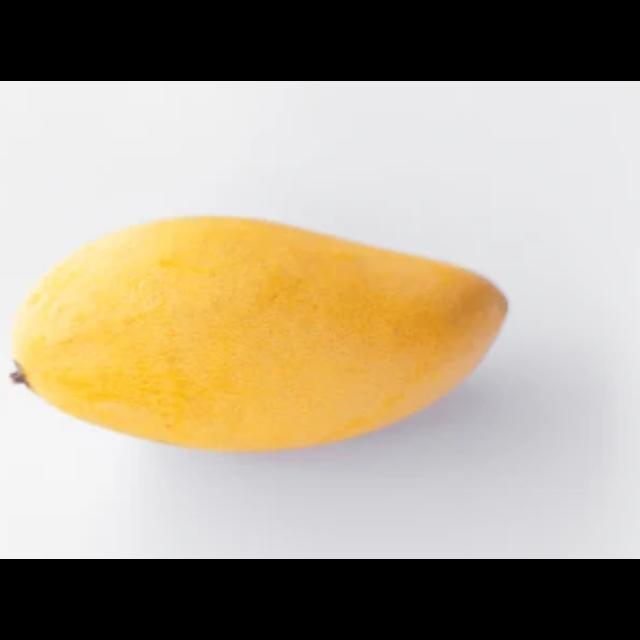mango: (12, 217, 509, 456)
